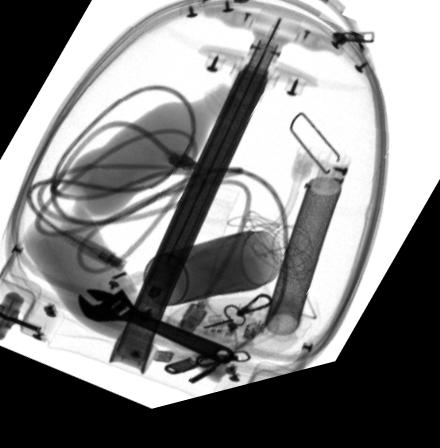Wrench: (77, 292, 234, 375)
